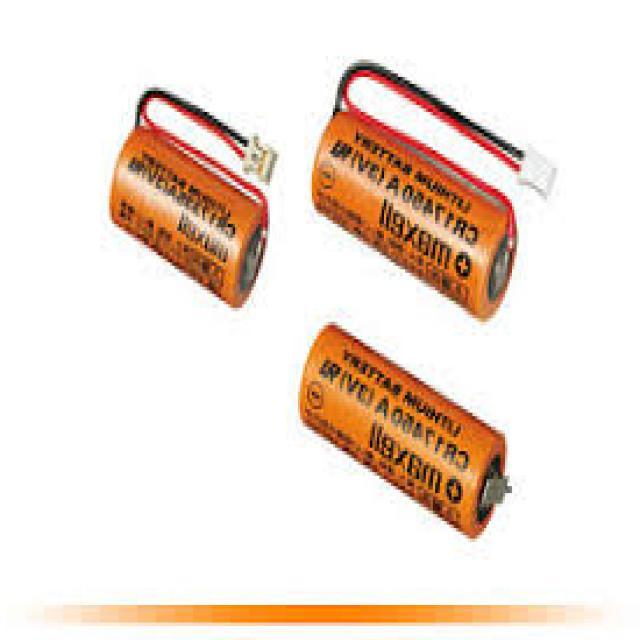battery: (312, 58, 556, 328), (298, 319, 506, 539), (107, 86, 277, 316)
